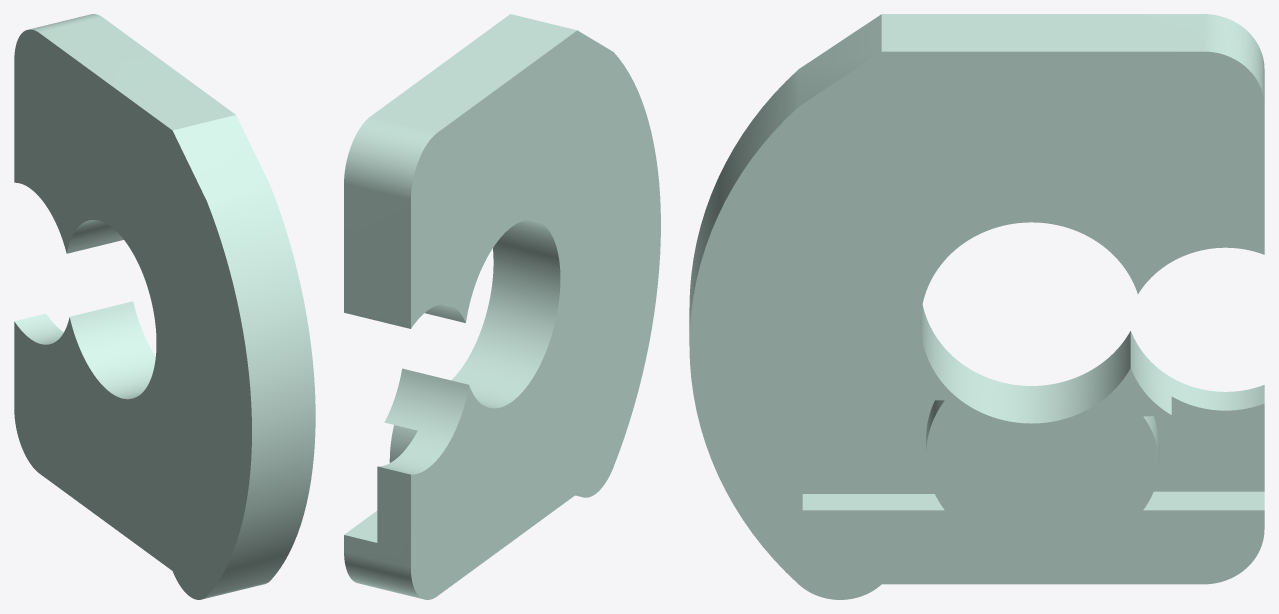
The picture shows the model from 3 angles, left to right: view 1: azimuth 30°, elevation 25°; view 2: azimuth 150°, elevation 25°; view 3: azimuth 270°, elevation 25°; orthographic projection. The views are drawn at different scales.
Parts seen in each view (by area): view 1: Renderer Node; view 2: Renderer Node; view 3: Renderer Node.
Part boxes in pixels (x1=…): Renderer Node: x1=14, y1=14, x2=315, y2=599; Renderer Node: x1=344, y1=14, x2=660, y2=599; Renderer Node: x1=689, y1=14, x2=1264, y2=599.
Size of the model in its own units: 0.2344 by 1.6 by 1.52.
